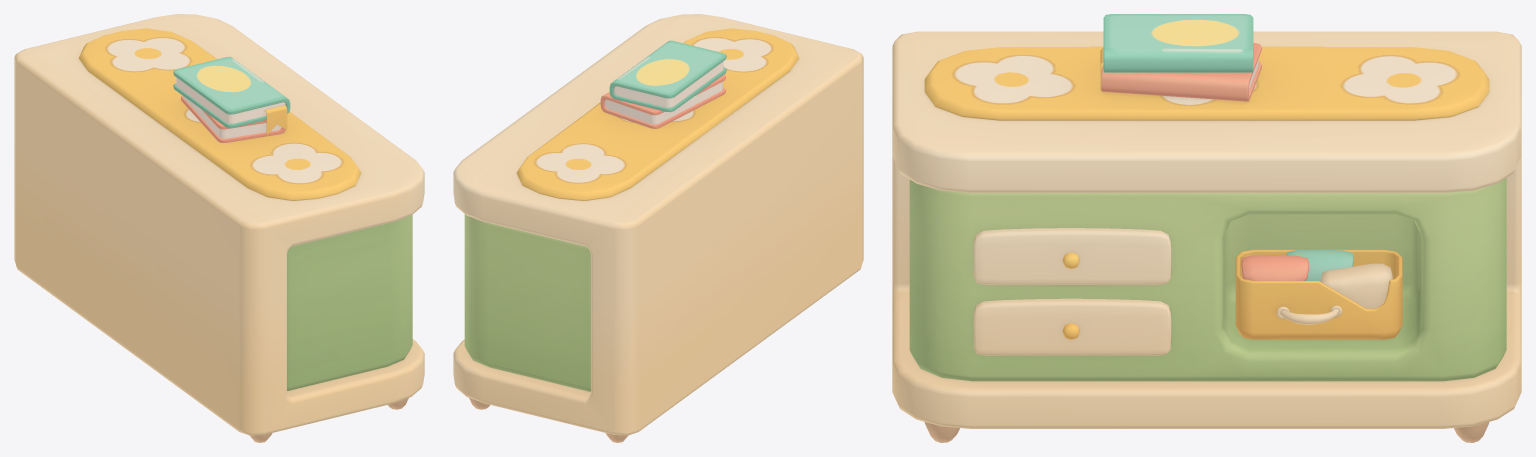
The model's file is cute_stylized_drawer_-_low_poly_-_game_ready.glb.
3 views of the same model, side by side, from view 1: azimuth 30°, elevation 25°; view 2: azimuth 150°, elevation 25°; view 3: azimuth 270°, elevation 25° (orthographic). The views are drawn at different scales.
Visible parts, largest first — view 1: Plane, Plane.001, Plane.002, Cube.002, Cube.003, Cube.004; view 2: Plane, Plane.001, Plane.002, Cube.002, Cube.003; view 3: Plane, Plane.001, Plane.002, Cube, Cube.006, Cube.002, Cube.003, Plane.003, Cube.007, Cube.008, Cylinder, Circle.004.
Part boxes in pixels (x1=…): Plane: x1=14, y1=14, x2=424, y2=435; Plane.001: x1=287, y1=215, x2=412, y2=390; Plane.002: x1=78, y1=28, x2=361, y2=200; Cube.002: x1=173, y1=56, x2=290, y2=128; Cube.003: x1=181, y1=95, x2=285, y2=142; Cube.004: x1=264, y1=105, x2=287, y2=134; Plane: x1=453, y1=14, x2=863, y2=435; Plane.001: x1=464, y1=214, x2=590, y2=391; Plane.002: x1=516, y1=28, x2=799, y2=200; Cube.002: x1=609, y1=40, x2=726, y2=112; Cube.003: x1=600, y1=74, x2=725, y2=128; Plane: x1=892, y1=31, x2=1521, y2=428; Plane.001: x1=909, y1=178, x2=1506, y2=381; Plane.002: x1=924, y1=46, x2=1489, y2=120; Cube: x1=973, y1=228, x2=1171, y2=355; Cube.006: x1=1235, y1=249, x2=1402, y2=339; Cube.002: x1=1103, y1=14, x2=1253, y2=72; Cube.003: x1=1101, y1=43, x2=1261, y2=101; Plane.003: x1=1320, y1=263, x2=1392, y2=308; Cube.007: x1=1241, y1=255, x2=1308, y2=280; Cube.008: x1=1286, y1=249, x2=1353, y2=281; Cylinder: x1=924, y1=422, x2=1489, y2=442; Circle.004: x1=1276, y1=305, x2=1342, y2=324.
Size of the model in its own units: 0.6833 by 0.9009 by 1.43.
1 material, 1 textured.
